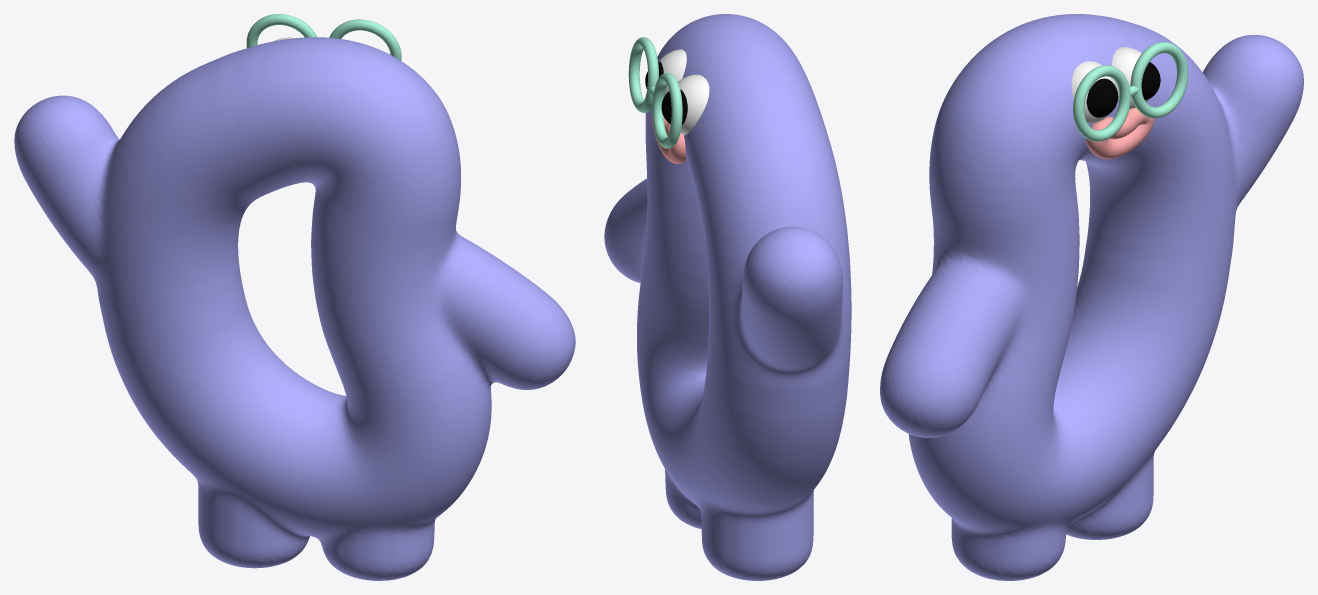
File: 26_DDokDDok.glb
The picture shows the model from 3 angles, left to right: view 1: azimuth 30°, elevation 25°; view 2: azimuth 150°, elevation 25°; view 3: azimuth 270°, elevation 25°; orthographic projection. The views are drawn at different scales.
Visible parts, largest first — view 1: Volume Mesher, Torus.1, Torus; view 2: Volume Mesher, Torus, Torus.1, 오_흰, 왼_흰, 입술.2, 오_검; view 3: Volume Mesher, Torus.1, Torus, 입술.2, 왼_검, 오_흰, 왼_흰, 오_검.
Boxes of the visible parts, x1,y1,x2,y2 form: Volume Mesher: (14,37,575,580); Torus.1: (329,19,401,60); Torus: (246,14,317,47); Volume Mesher: (604,14,851,580); Torus: (652,73,682,148); Torus.1: (628,37,658,112); 오_흰: (678,74,709,135); 왼_흰: (659,49,686,96); 입술.2: (651,113,686,163); 오_검: (661,89,687,124); Volume Mesher: (880,14,1303,580); Torus.1: (1073,65,1130,141); Torus: (1130,42,1188,118); 입술.2: (1086,107,1154,159); 왼_검: (1086,78,1118,117); 오_흰: (1112,46,1149,109); 왼_흰: (1071,61,1116,123); 오_검: (1141,62,1160,100).
Size of the model in its own units: 2.3 by 2.94 by 2.15.
